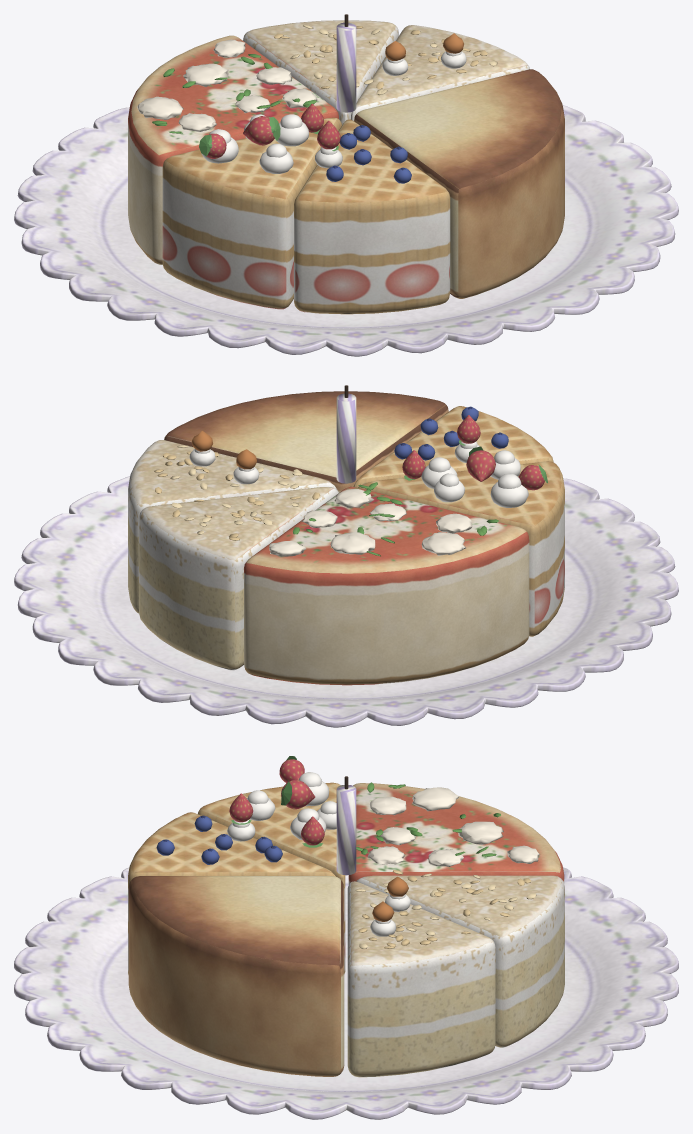
Rendered from cake.glb.
3 renders of one model, top to bottom at view 1: azimuth 30°, elevation 25°; view 2: azimuth 150°, elevation 25°; view 3: azimuth 270°, elevation 25°, orthographic.
Visible parts, largest first — view 1: Plate, Slice_Basque, Slice_Waffle_B, Slice_Waffle_A, Slice_Pizza, Slice_Oat_B, Slice_Oat_A, Slice_Pizza_Toppings, Slice_Waffle_A_Toppings, Slice_Waffle_B_Toppings, Slice_Oat_A_Toppings, Candle (+1 smaller); view 2: Plate, Slice_Pizza, Slice_Oat_B, Slice_Basque, Slice_Waffle_A, Slice_Oat_A, Slice_Pizza_Toppings, Slice_Waffle_A_Toppings, Slice_Waffle_B, Slice_Oat_A_Toppings, Slice_Waffle_B_Toppings, Candle (+1 smaller); view 3: Plate, Slice_Basque, Slice_Oat_A, Slice_Oat_B, Slice_Pizza, Slice_Waffle_B, Slice_Pizza_Toppings, Slice_Waffle_A_Toppings, Slice_Waffle_A, Slice_Waffle_B_Toppings, Slice_Oat_A_Toppings, Candle (+1 smaller).
Part boxes in pixels (left/top/right/bottom): Plate: left=14, top=105, right=678, bottom=356; Slice_Basque: left=354, top=69, right=564, bottom=298; Slice_Waffle_B: left=294, top=119, right=450, bottom=314; Slice_Waffle_A: left=162, top=117, right=341, bottom=309; Slice_Pizza: left=128, top=35, right=338, bottom=264; Slice_Oat_B: left=243, top=20, right=398, bottom=124; Slice_Oat_A: left=351, top=25, right=529, bottom=120; Slice_Pizza_Toppings: left=137, top=39, right=317, bottom=133; Slice_Waffle_A_Toppings: left=199, top=103, right=323, bottom=173; Slice_Waffle_B_Toppings: left=315, top=120, right=411, bottom=183; Slice_Oat_A_Toppings: left=363, top=30, right=497, bottom=95; Candle: left=336, top=22, right=356, bottom=112; Plate: left=14, top=476, right=678, bottom=727; Slice_Pizza: left=244, top=486, right=529, bottom=685; Slice_Oat_B: left=139, top=487, right=338, bottom=670; Slice_Basque: left=164, top=391, right=448, bottom=492; Slice_Waffle_A: left=358, top=461, right=564, bottom=636; Slice_Oat_A: left=128, top=440, right=336, bottom=613; Slice_Pizza_Toppings: left=269, top=482, right=498, bottom=556; Slice_Waffle_A_Toppings: left=402, top=446, right=547, bottom=507; Slice_Waffle_B: left=353, top=406, right=553, bottom=487; Slice_Oat_A_Toppings: left=154, top=431, right=302, bottom=493; Slice_Waffle_B_Toppings: left=394, top=406, right=508, bottom=462; Candle: left=336, top=393, right=356, bottom=483; Plate: left=14, top=867, right=678, bottom=1119; Slice_Basque: left=128, top=876, right=344, bottom=1076; Slice_Oat_A: left=347, top=881, right=495, bottom=1077; Slice_Oat_B: left=356, top=875, right=564, bottom=1047; Slice_Pizza: left=348, top=783, right=564, bottom=884; Slice_Waffle_B: left=128, top=812, right=335, bottom=974; Slice_Pizza_Toppings: left=356, top=782, right=539, bottom=866; Slice_Waffle_A_Toppings: left=247, top=756, right=336, bottom=847; Slice_Waffle_A: left=198, top=782, right=345, bottom=973; Slice_Waffle_B_Toppings: left=156, top=793, right=282, bottom=864; Slice_Oat_A_Toppings: left=355, top=876, right=470, bottom=948; Candle: left=336, top=785, right=356, bottom=875.
Size of the model in its own units: 3.07 by 1.11 by 3.07.
Materials: 19 (9 with a texture image).
